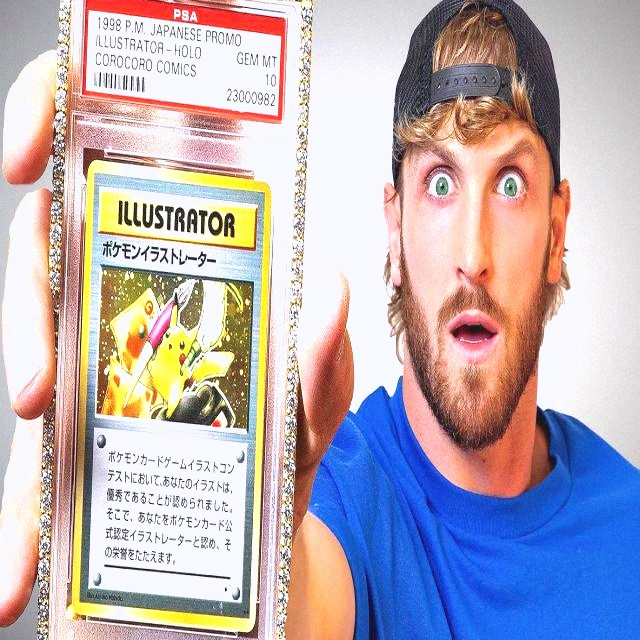card: (71, 159, 272, 634)
